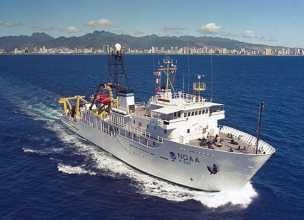warship: (58, 47, 272, 195)
